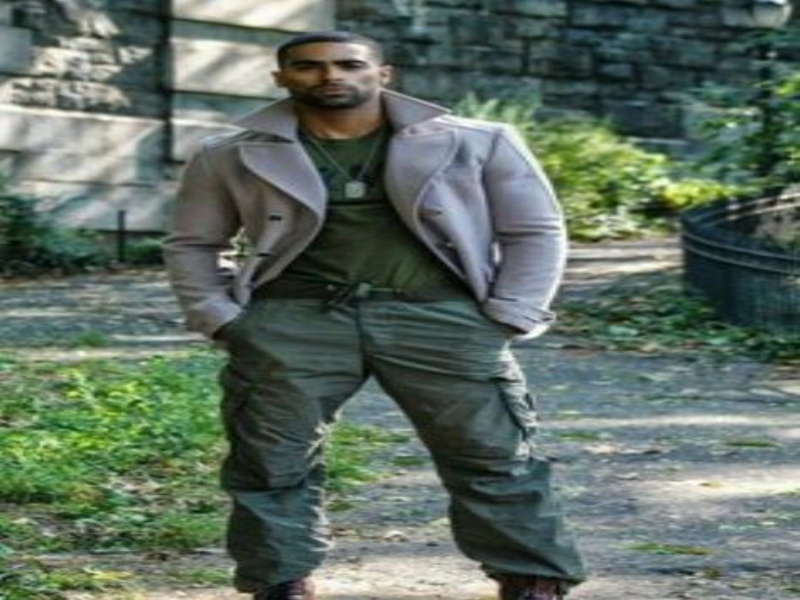TsisyArotava: (267, 21, 405, 119)
